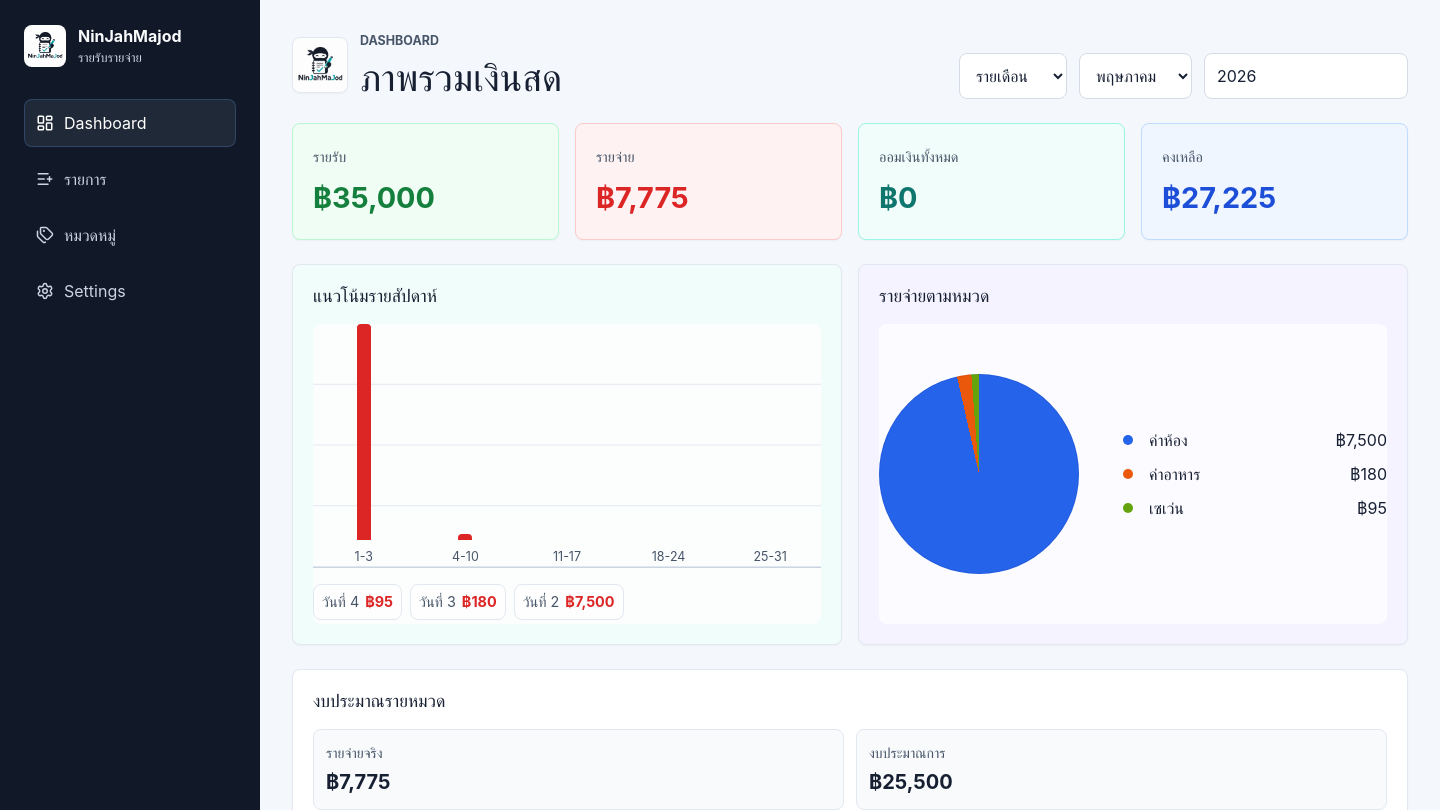
Test case: App smoke flow › lets mobile users choose a category to edit and cancel back to add mode
Click the button "หมวดหมู่" at (130, 235), box left=24, top=211, right=236, bottom=259
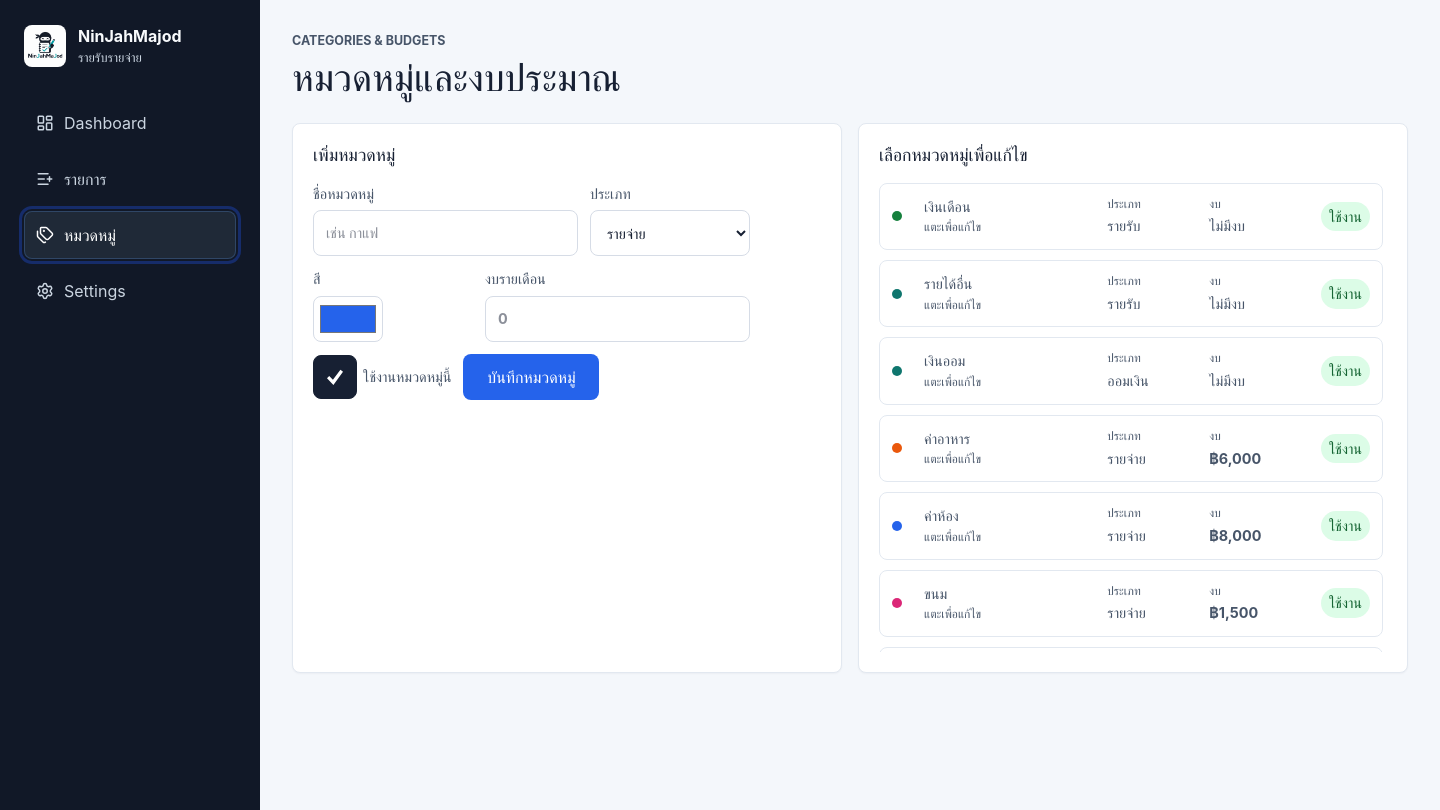
Click the button with aria-label "แก้ไขหมวดหมู่ ค่าอาหาร" at (1131, 448), box left=879, top=415, right=1383, bottom=482
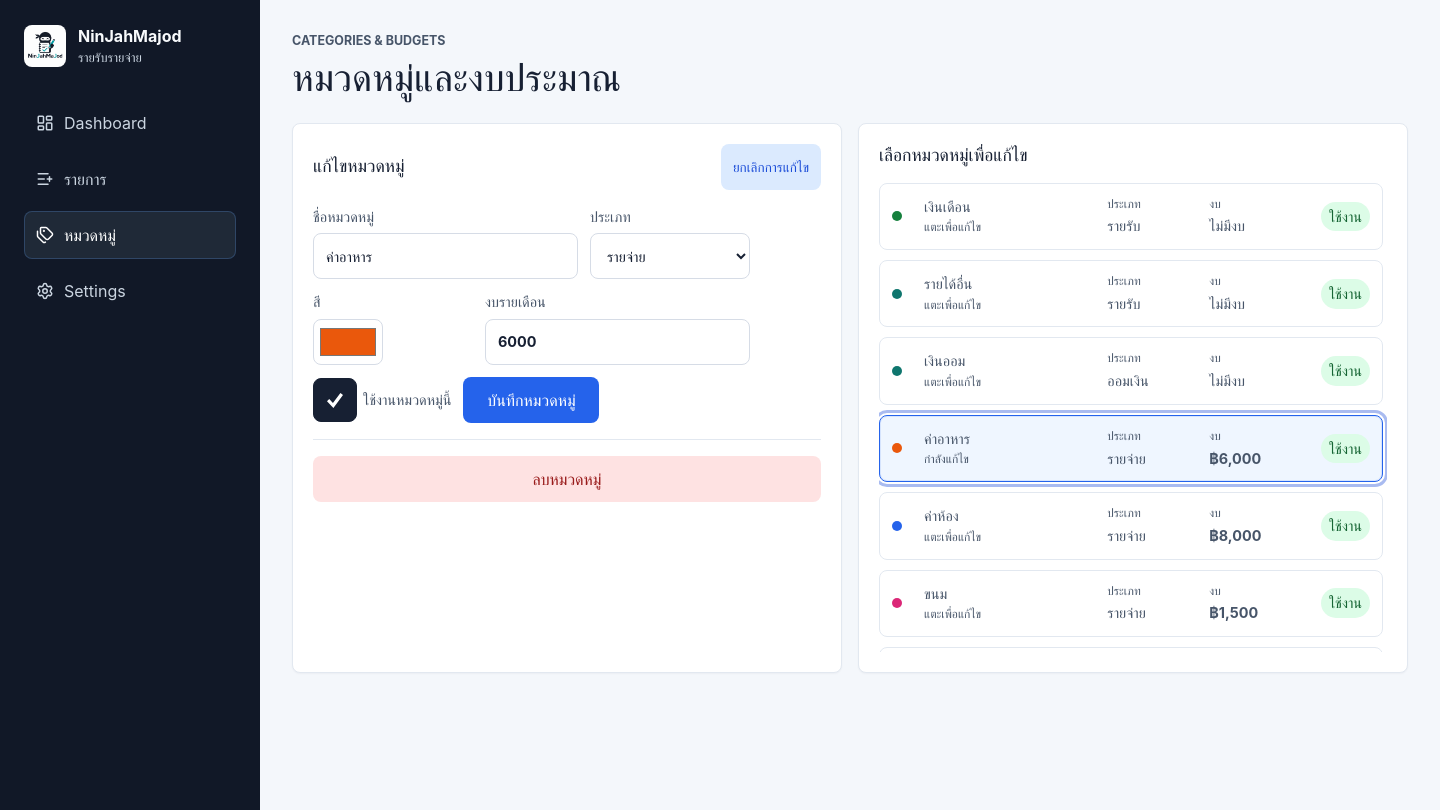
expect the heading "แก้ไขหมวดหมู่" is shown: met, box left=313, top=155, right=404, bottom=178
Click the button "ยกเลิกการแก้ไข" at (771, 167), box left=721, top=144, right=821, bottom=190
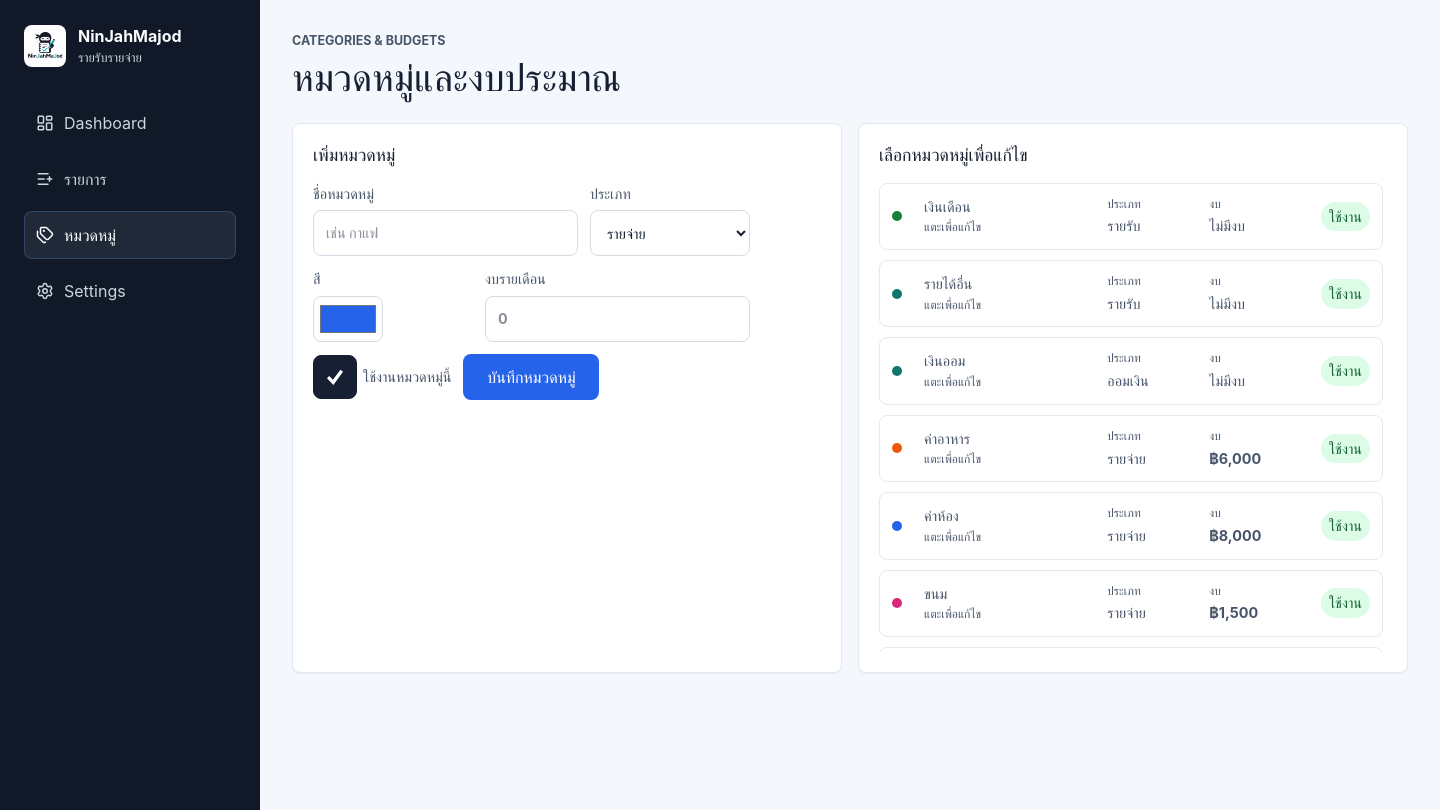
expect the heading "เพิ่มหมวดหมู่" is shown: met, box left=313, top=144, right=395, bottom=167
